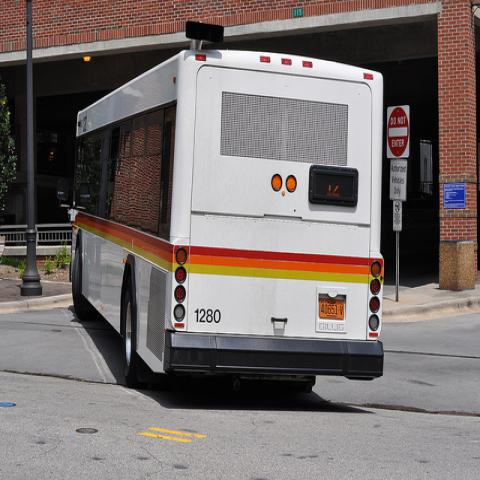bus: (66, 18, 388, 392)
